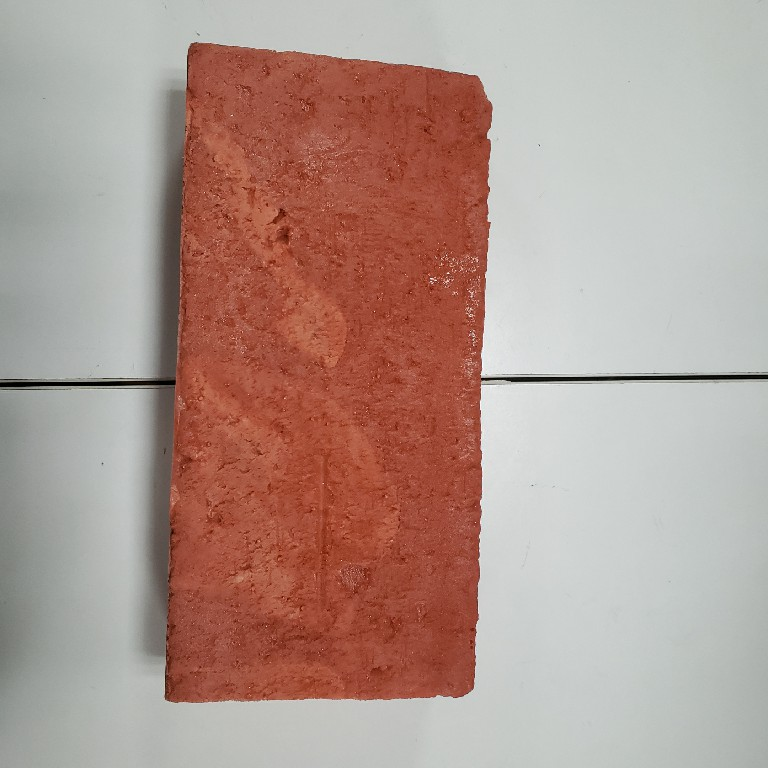brick: (155, 36, 492, 718)
